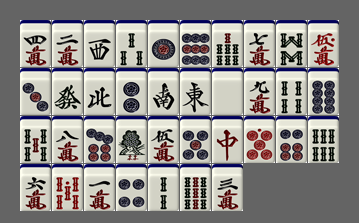0m: (308, 20, 339, 67)
0p: (244, 116, 275, 163)
0s: (52, 164, 83, 211)
1m: (84, 164, 115, 211)
1p: (148, 20, 179, 67)
1s: (116, 116, 147, 163)
1z: (180, 68, 211, 115)
2m: (52, 20, 83, 67)
2p: (116, 68, 147, 115)
2s: (148, 164, 179, 211)
2z: (148, 68, 179, 115)
3m: (212, 164, 243, 211)
3p: (20, 68, 51, 115)
3s: (116, 20, 147, 67)
3z: (84, 20, 115, 67)
4m: (20, 20, 51, 67)
4p: (116, 164, 147, 211)
4s: (276, 68, 307, 115)
4z: (84, 68, 115, 115)
5m: (148, 116, 179, 163)
5p: (180, 116, 211, 163)
5s: (20, 116, 51, 163)
5z: (212, 68, 243, 115)
6m: (20, 164, 51, 211)
6p: (276, 116, 307, 163)
6s: (308, 116, 339, 163)
6z: (52, 68, 83, 115)
7m: (244, 20, 275, 67)
7p: (84, 116, 115, 163)
7s: (212, 20, 243, 67)
7z: (212, 116, 243, 163)
8m: (52, 116, 83, 163)
8p: (308, 68, 339, 115)
8s: (276, 20, 307, 67)
9m: (244, 68, 275, 115)
9p: (180, 20, 211, 67)
9s: (180, 164, 211, 211)
